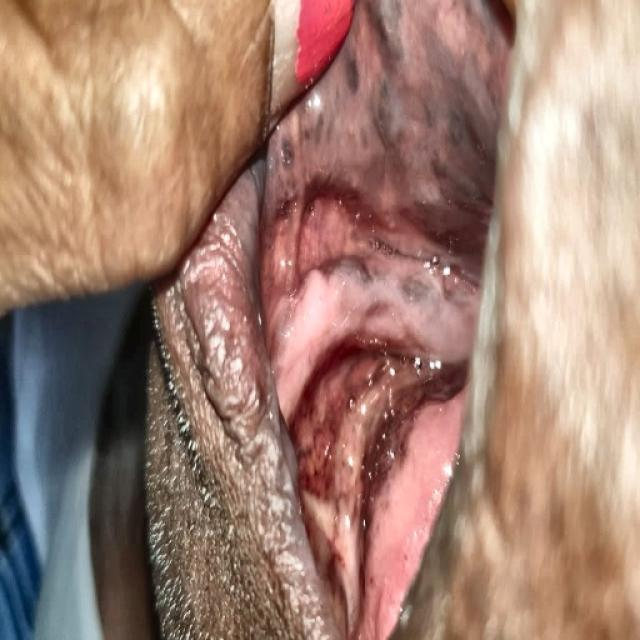cancer-detection: (248, 176, 480, 639)
processing_area: (164, 0, 509, 639)
